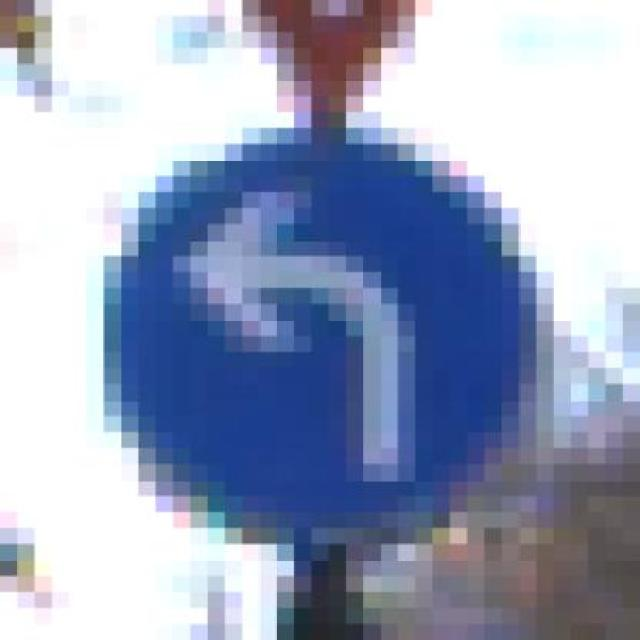Turn left ahead: (86, 112, 554, 560)
